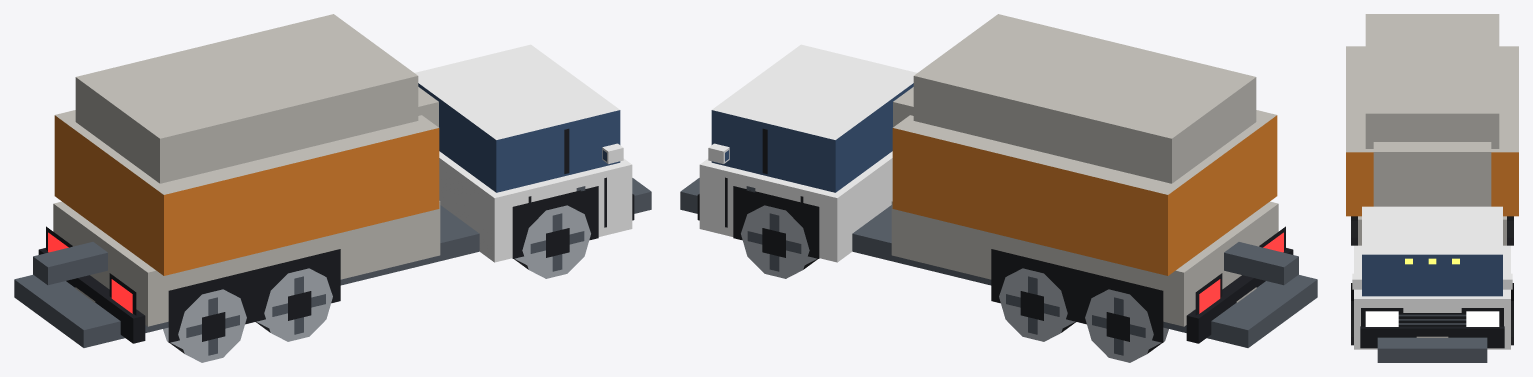
The model's file is truck_cement.glb.
3 renders of one model, left to right at view 1: azimuth 30°, elevation 25°; view 2: azimuth 150°, elevation 25°; view 3: azimuth 270°, elevation 25°, orthographic. The views are drawn at different scales.
Parts seen in each view (by area): view 1: truck_cement; view 2: truck_cement; view 3: truck_cement.
Part boxes in pixels (left/top/right/bottom): truck_cement: left=14, top=14, right=651, bottom=362; truck_cement: left=680, top=14, right=1317, bottom=362; truck_cement: left=1346, top=14, right=1518, bottom=362.
Bounding box in the file's own units: 0.67 × 0.25 × 0.22.
